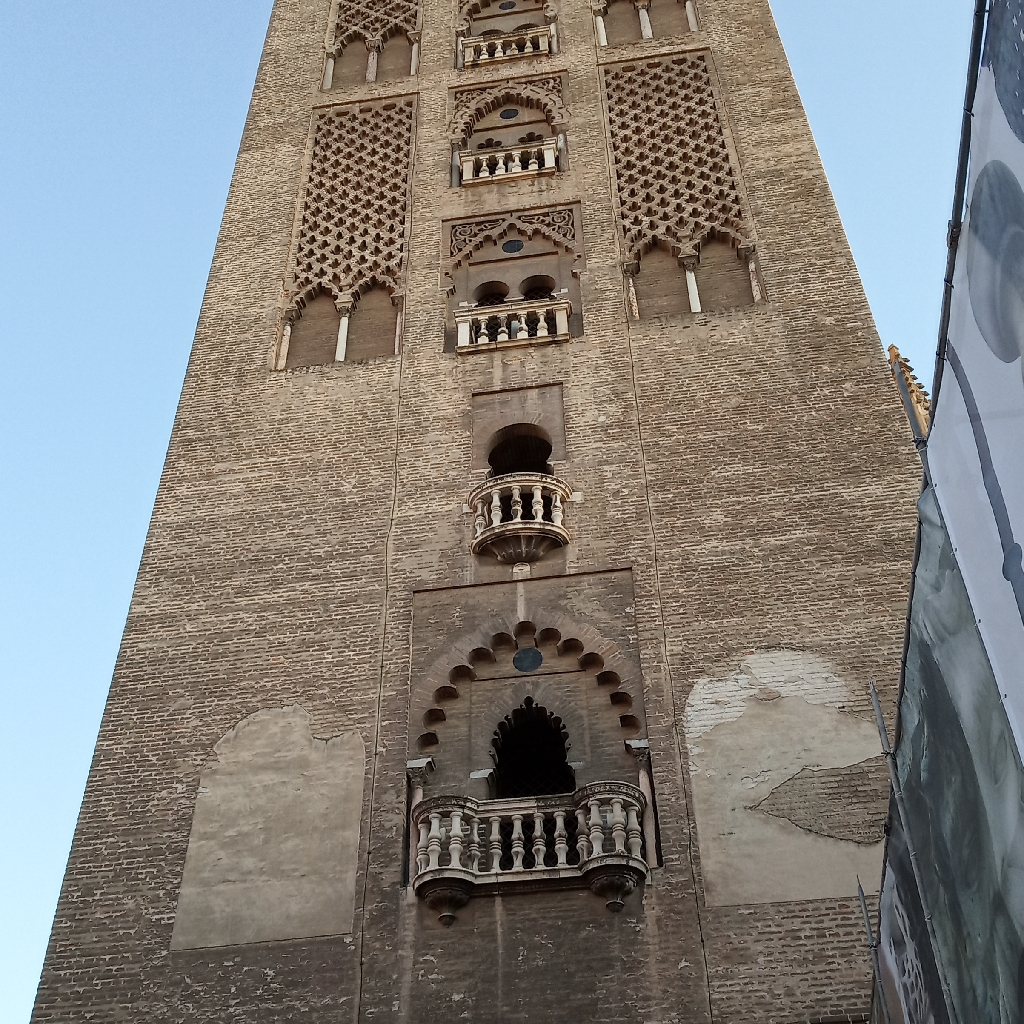arco-herradura: (482, 417, 558, 475), (472, 278, 512, 305), (517, 272, 557, 299)
arco-lobulado: (410, 611, 651, 771)
